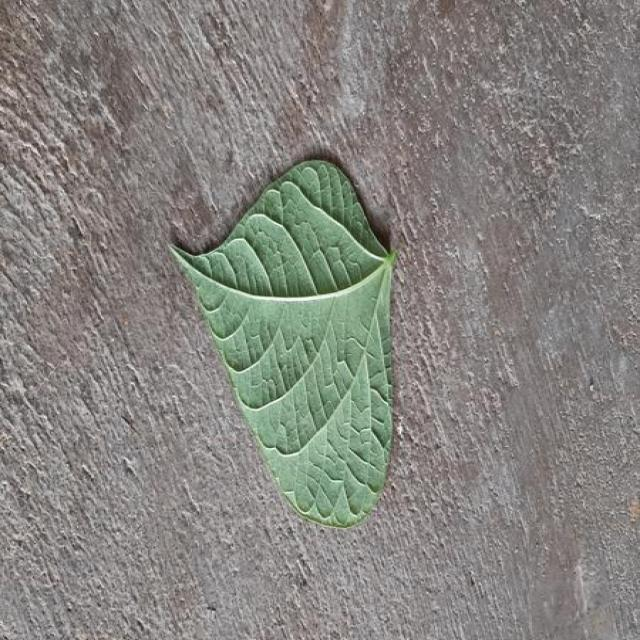beans: (172, 160, 395, 527)
